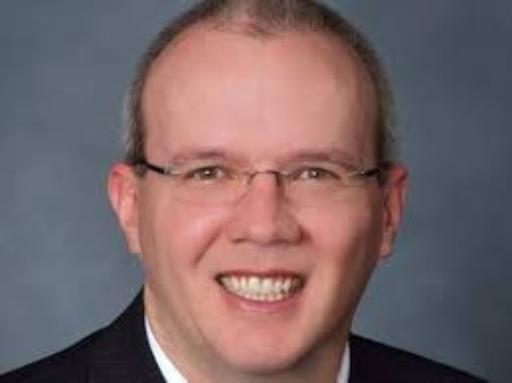left_eye: (295, 169, 343, 188)
left_lip_corner: (295, 266, 320, 285)
right_eye: (184, 165, 237, 187)
right_lip_corner: (208, 267, 239, 283)
